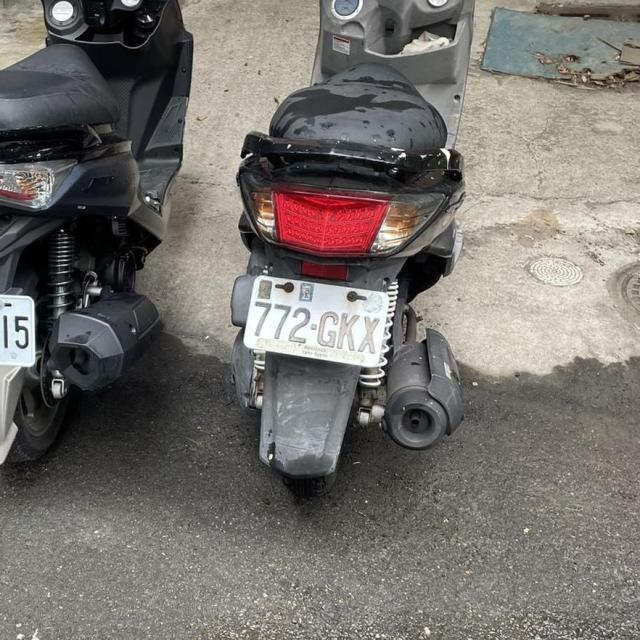W: (241, 272, 392, 372), (0, 284, 39, 371)
